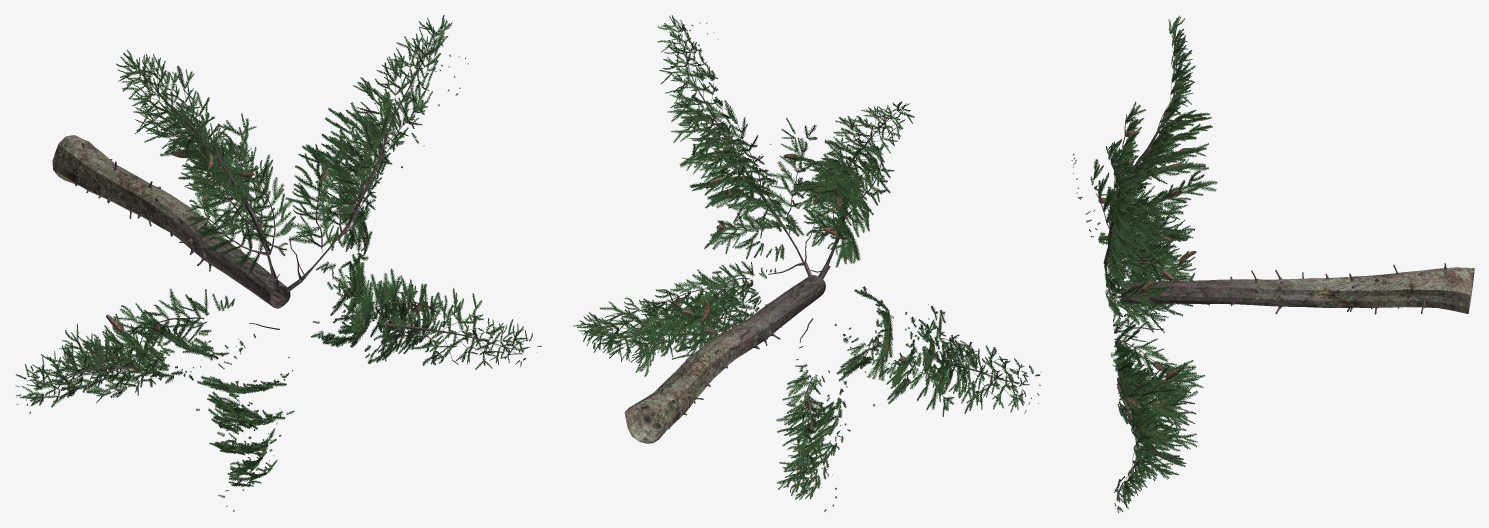
File: picea_abies_3.dae
3 views of the same model, side by side, from view 1: azimuth 30°, elevation 25°; view 2: azimuth 150°, elevation 25°; view 3: azimuth 270°, elevation 25° (orthographic). The views are drawn at different scales.
Parts seen in each view (by area): view 1: node; view 2: node; view 3: node.
Part boxes in pixels (x1=…): node: x1=15, y1=15, x2=541, y2=511; node: x1=573, y1=15, x2=1041, y2=511; node: x1=1071, y1=15, x2=1474, y2=512.
Bounding box in the file's own units: 3.18 × 2.82 × 2.41.
7 materials, 7 textured.
